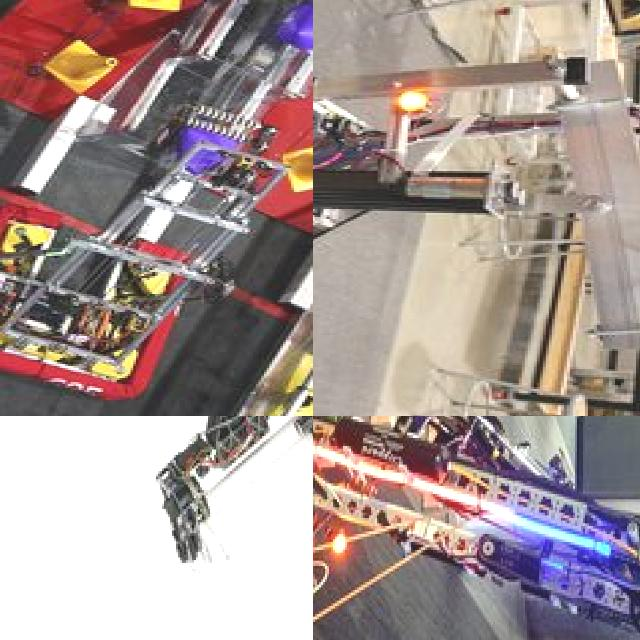FRC-Robots: (0, 23, 313, 403), (313, 0, 549, 416), (313, 416, 640, 640), (0, 416, 313, 640)
